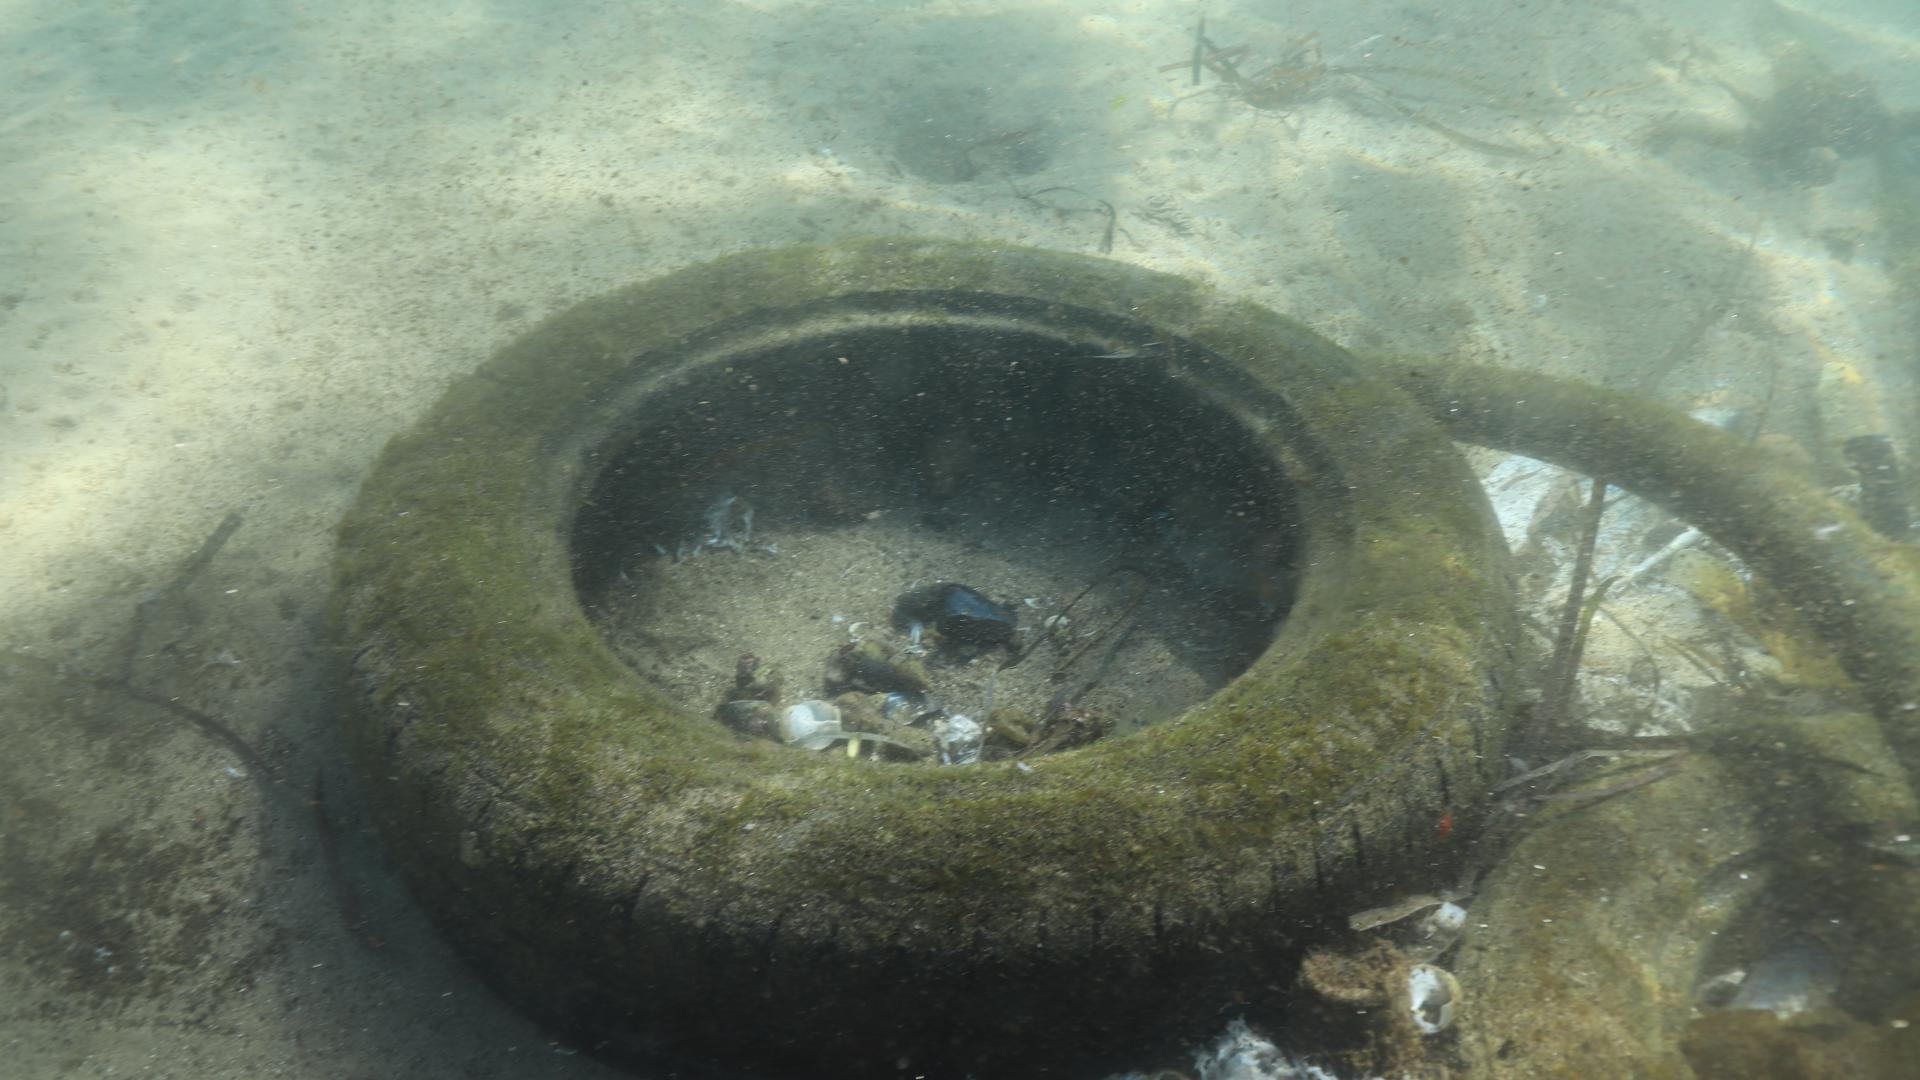tire: (343, 235, 1524, 1080)
